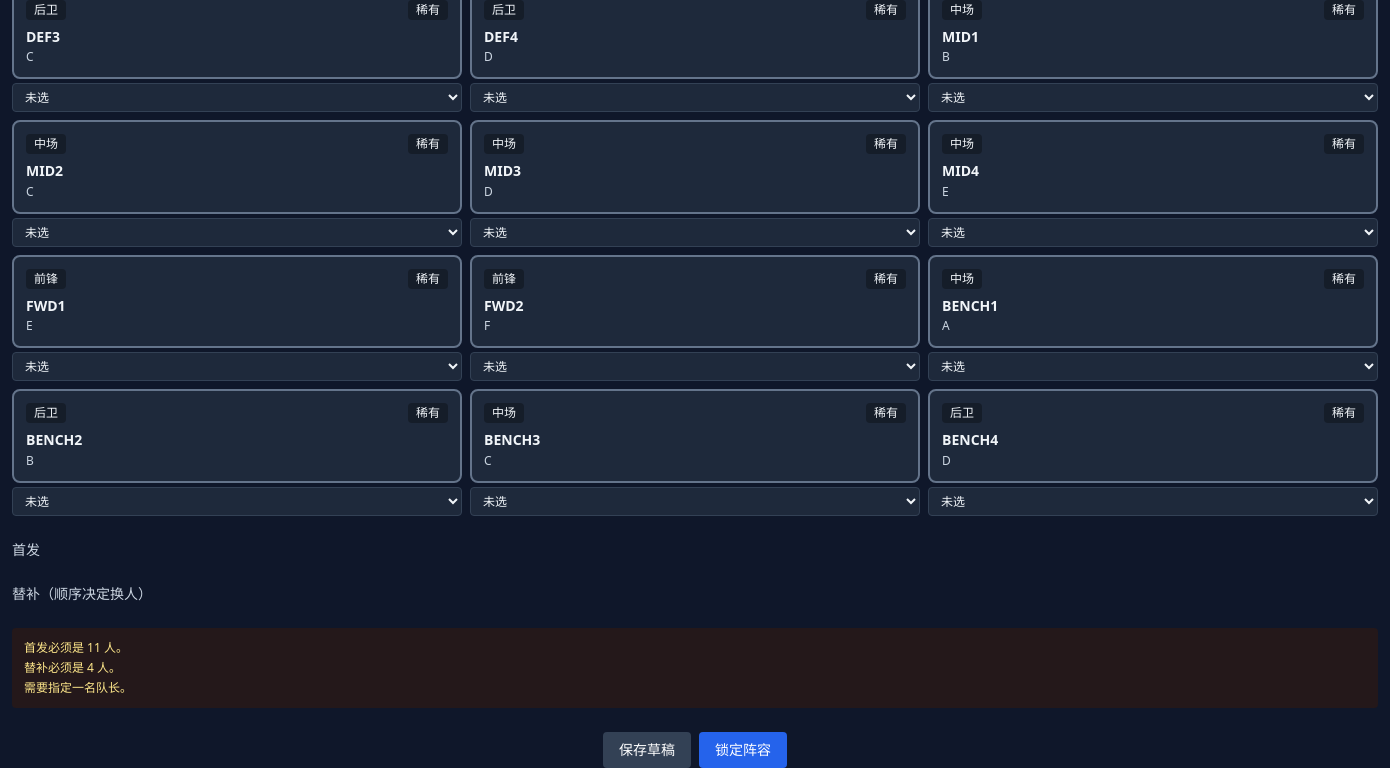
Test: LineupBuilder › saves a tentative lineup and keeps it editable
(page scrolled)
Click the button "保存草稿": x=647, y=750 [603,732,691,767]
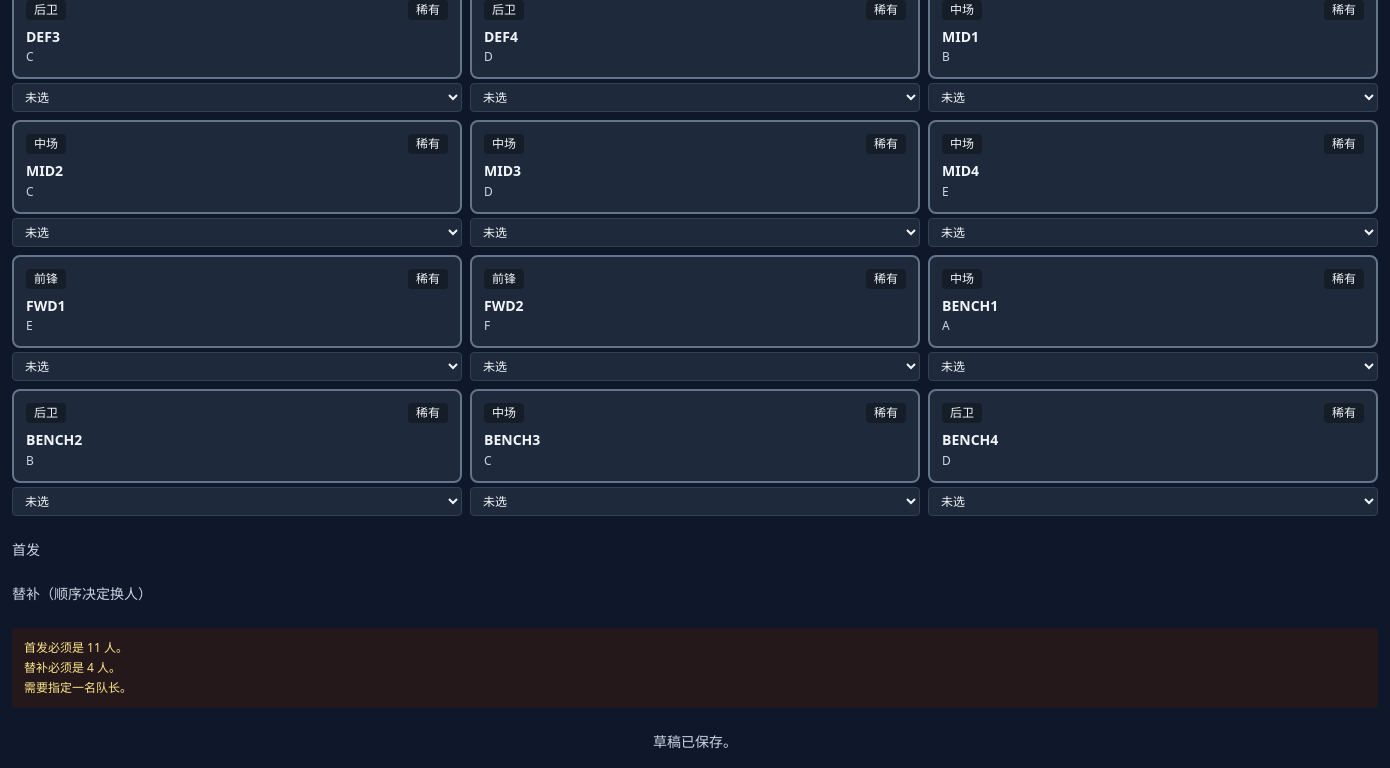
Now the text "草稿已保存。" is shown, box [653,732,737,750]
